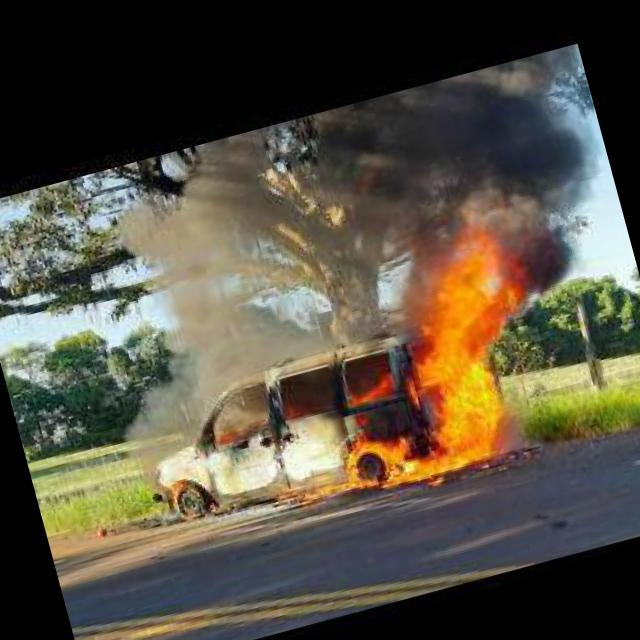fire: (291, 217, 559, 498)
smoke: (56, 121, 354, 472), (430, 41, 636, 300)
